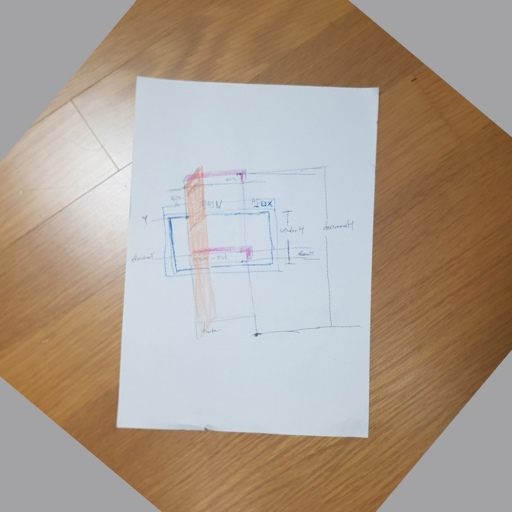Paper_2: (115, 63, 392, 451)
